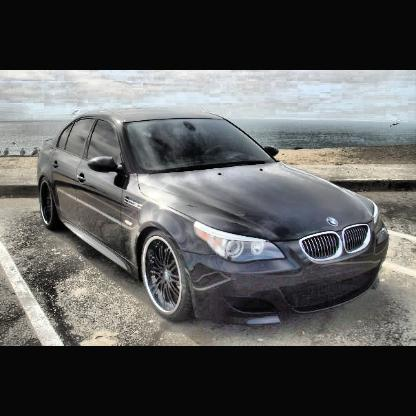BMW M5 Sedan 2010: (38, 107, 393, 326)
